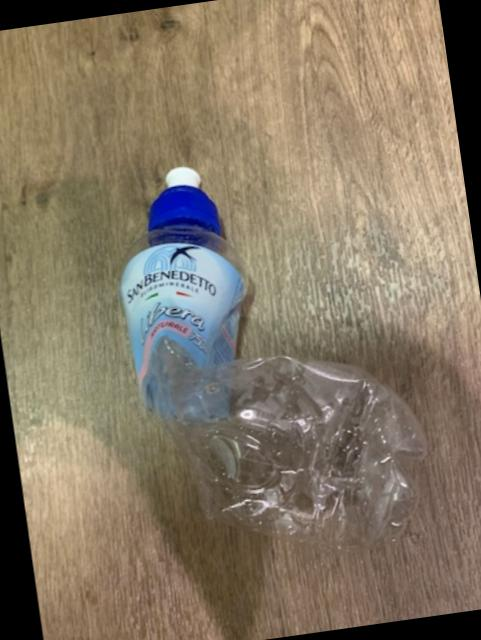plastic: (115, 167, 428, 551)
